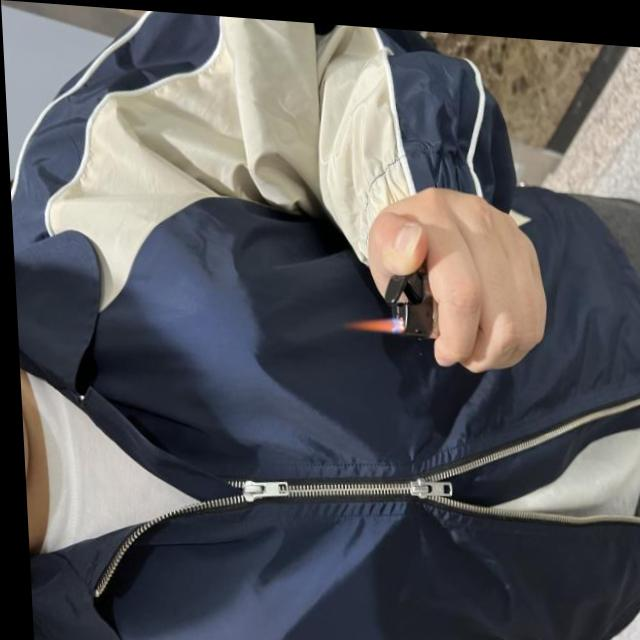Fire: (341, 306, 400, 331)
